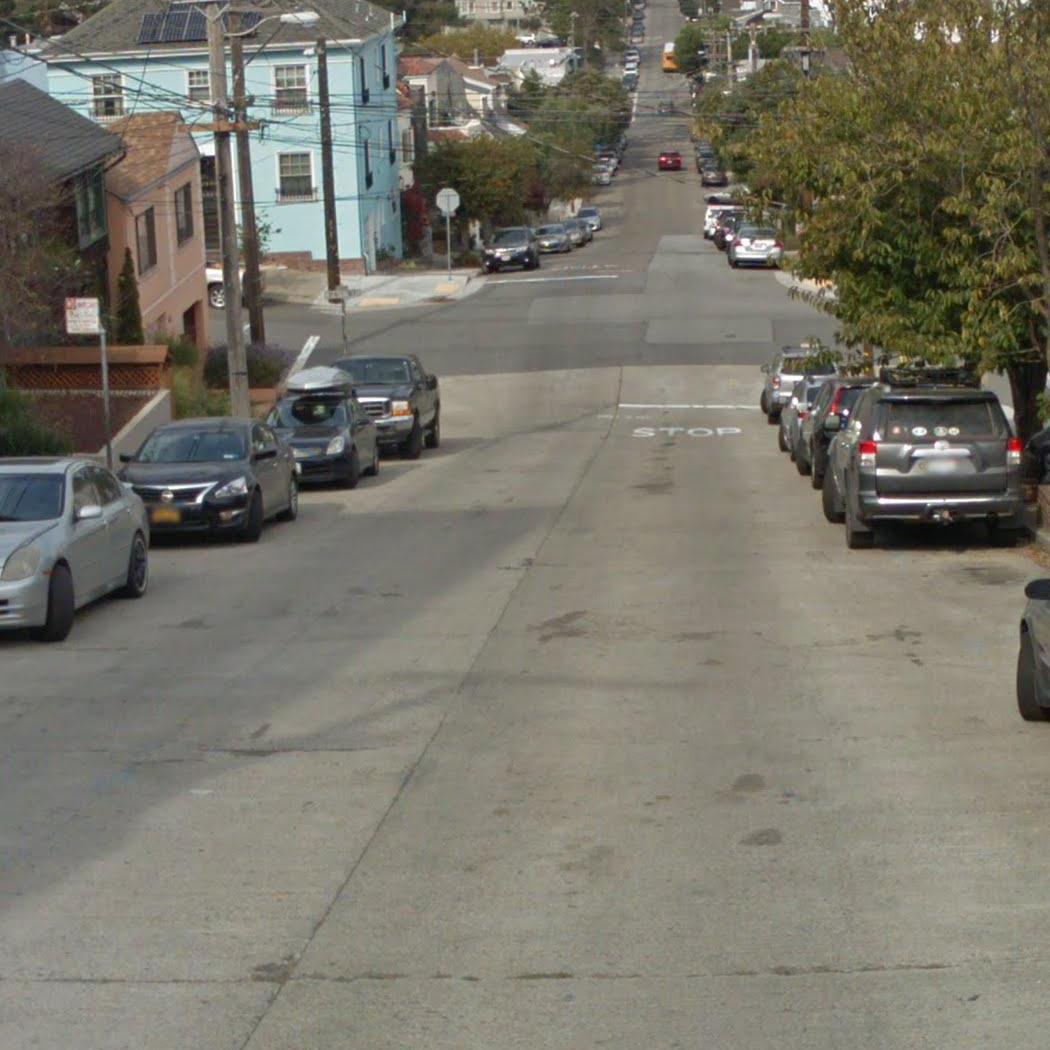No Parking: (62, 295, 102, 337)
